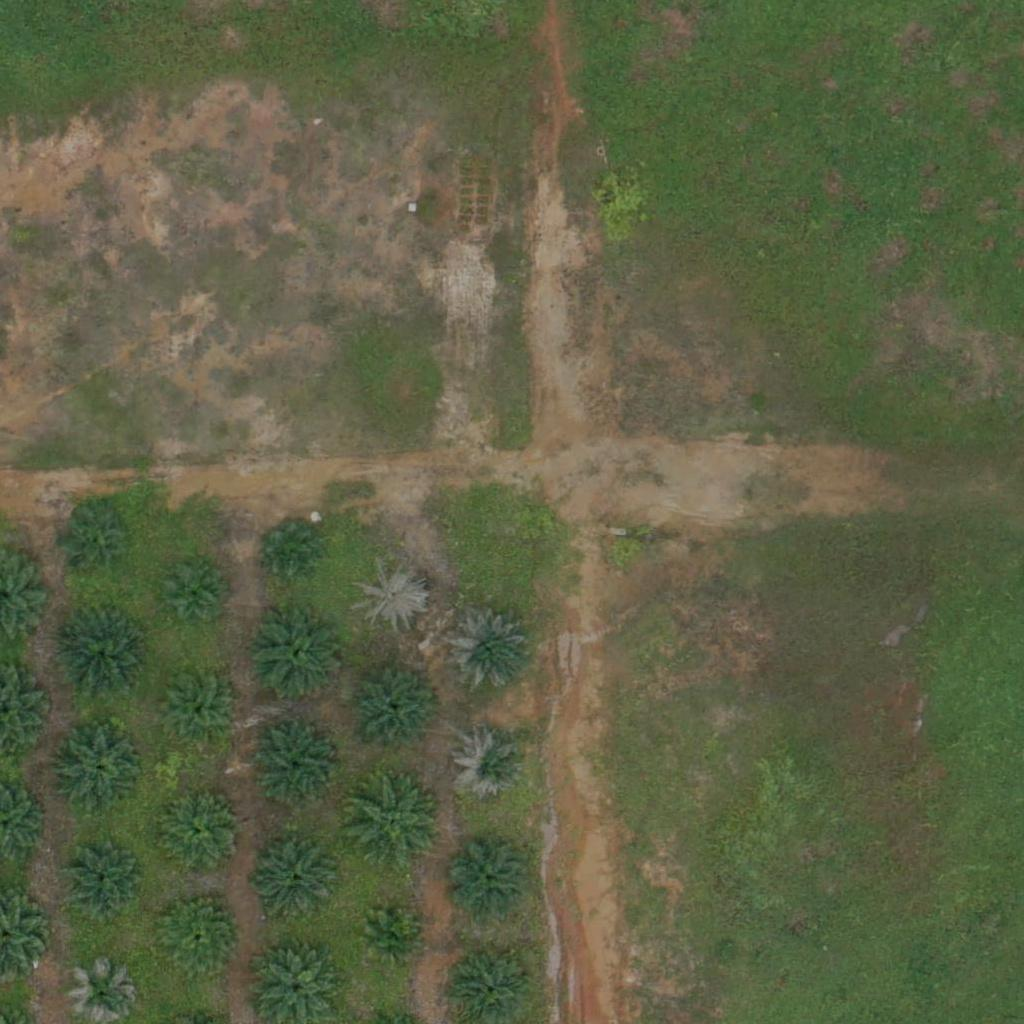Kelapa_Sawit: (248, 605, 348, 705), (347, 659, 447, 759), (347, 773, 447, 873), (154, 895, 242, 984), (58, 614, 146, 702), (55, 727, 143, 815), (157, 793, 245, 881), (443, 607, 531, 695), (445, 837, 533, 925), (253, 722, 340, 810), (252, 838, 339, 926), (354, 558, 429, 634), (455, 728, 530, 804), (160, 677, 235, 752), (64, 845, 139, 920), (65, 510, 128, 573), (162, 557, 225, 620), (362, 908, 425, 971), (258, 518, 320, 580)
